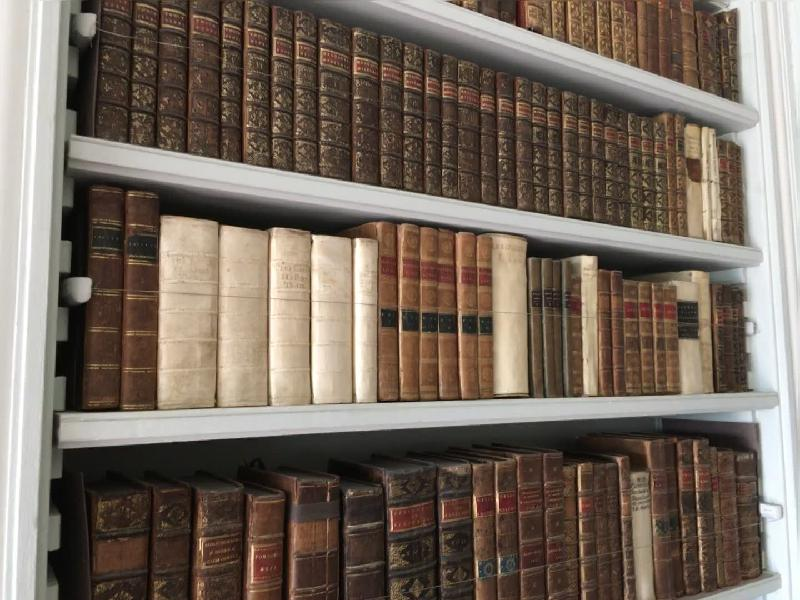Kk4-14: (492, 231, 528, 397)
Kk4-15_16: (528, 257, 553, 398)
Kk4-17_18: (553, 257, 572, 397)
Kk4-19: (571, 277, 583, 391)
Kk4-1_2: (86, 183, 159, 410)
Kk4-20: (580, 254, 600, 397)
Kk4-21_22: (598, 269, 624, 396)
Kk4-23_26: (623, 281, 678, 394)
Kk4-27: (678, 277, 698, 393)
Kk4-28: (694, 274, 712, 399)
Kk4-3_7: (160, 212, 377, 413)
Kk4-8_13: (377, 221, 494, 404)
